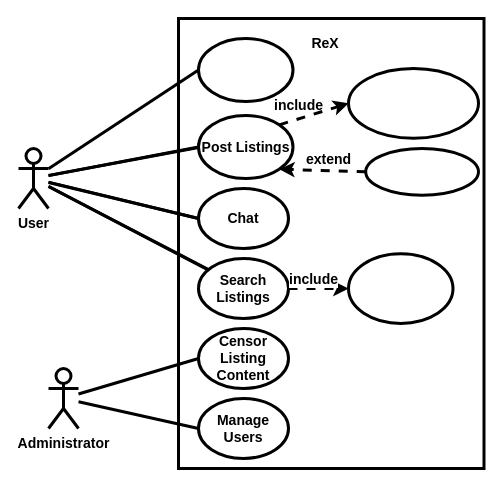
Image size: 503x487. Some labels were removed from this diagram. Each missing label, with the box of its shape:
Price Comparison: (346, 252, 454, 324)
Price Recommendation: (346, 66, 480, 139)
Register & Login: (196, 36, 294, 102)
Store item in storage facility: (364, 146, 480, 196)
